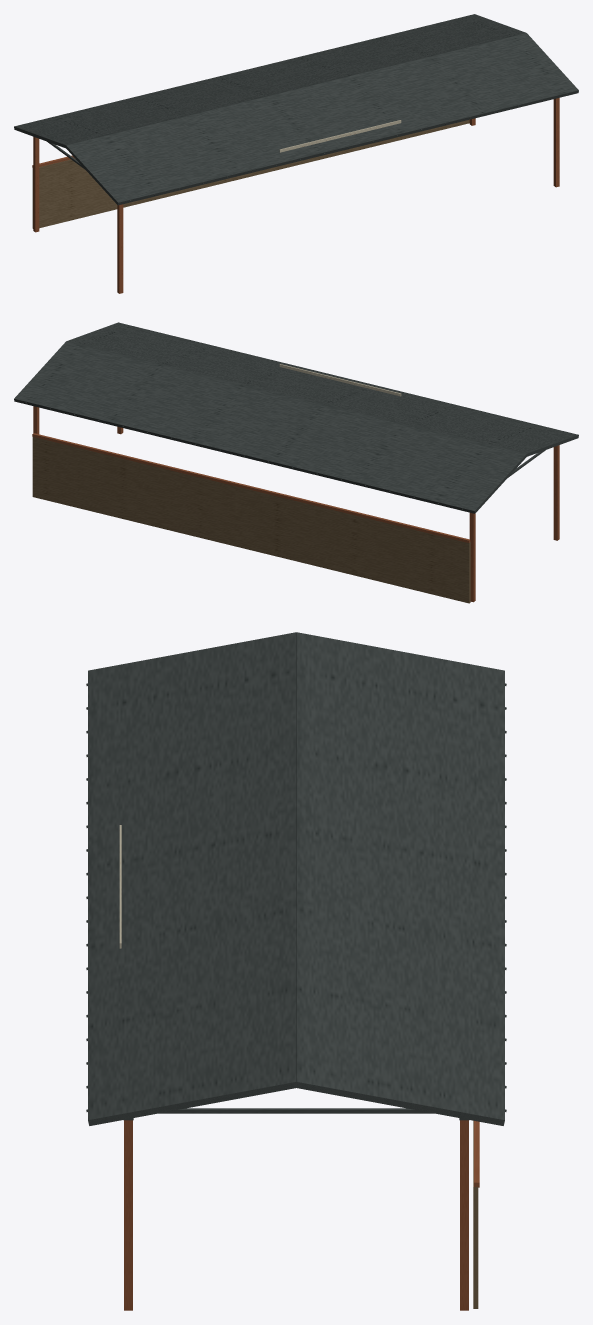
Rendered from WorkshopCanopy.fbx.
3 renders of one model, top to bottom at view 1: azimuth 30°, elevation 25°; view 2: azimuth 150°, elevation 25°; view 3: azimuth 270°, elevation 25°, orthographic. The views are drawn at different scales.
Parts seen in each view (by area): view 1: WorkshopCanopy; view 2: WorkshopCanopy; view 3: WorkshopCanopy.
Part boxes in pixels (box(x1,y1,x2,y2)): WorkshopCanopy: box(14, 14, 578, 293); WorkshopCanopy: box(14, 322, 578, 603); WorkshopCanopy: box(86, 632, 506, 1310).
Bounding box in the file's own units: 1900 × 471 × 751.
Materials: 1 (1 with a texture image).
